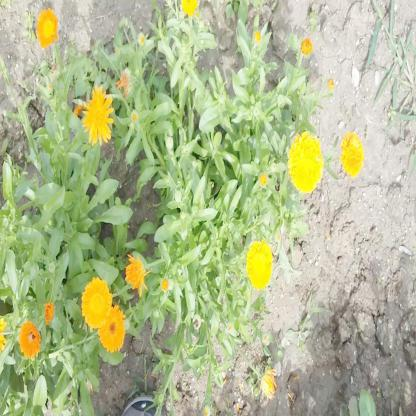marigold: (291, 130, 323, 193), (80, 87, 111, 143), (80, 280, 108, 328), (248, 240, 272, 291), (124, 250, 150, 297), (97, 310, 122, 354), (342, 132, 364, 177), (18, 321, 40, 360), (38, 9, 58, 45)
